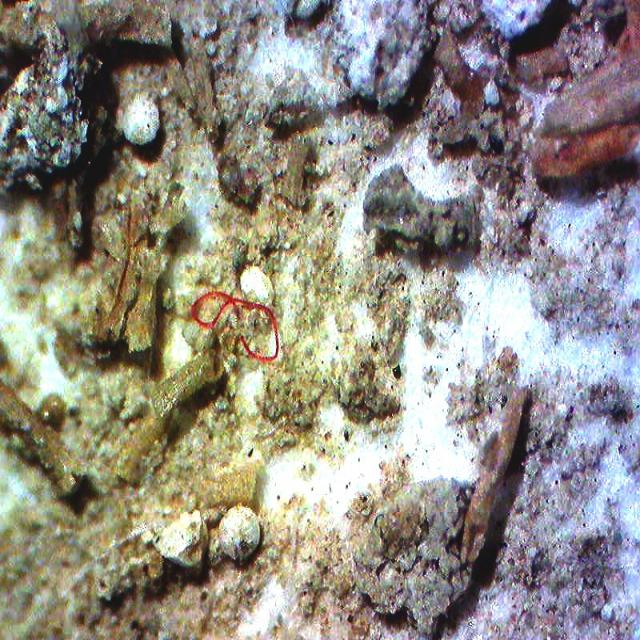microplastic: (192, 292, 279, 361)
